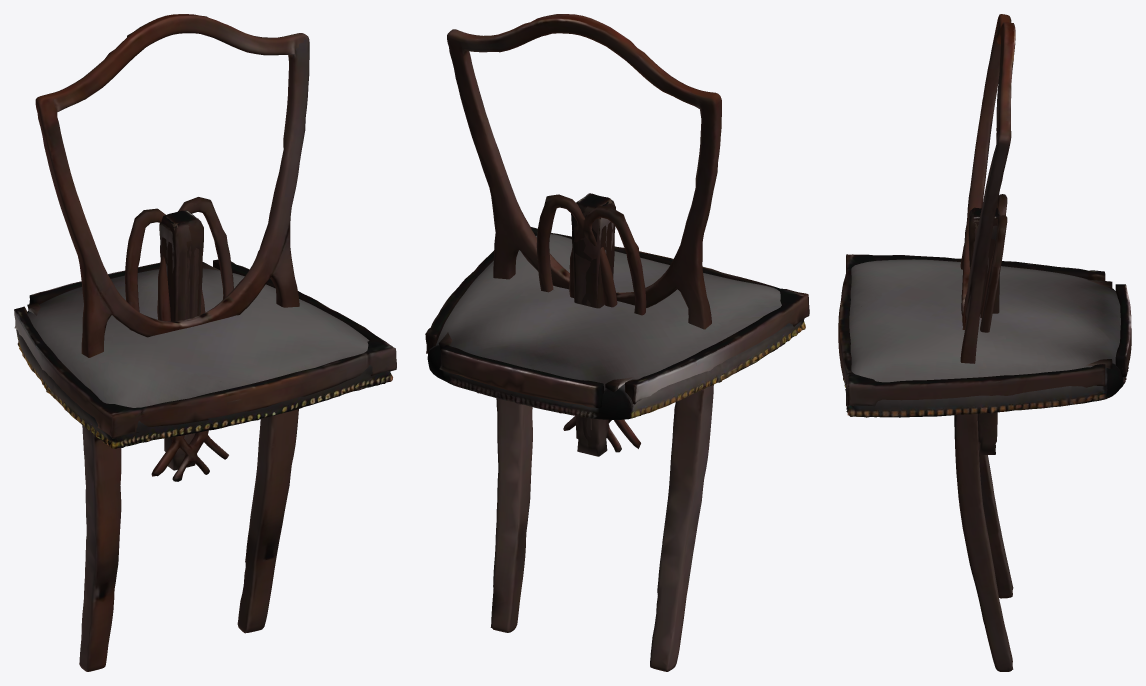
The picture shows the model from 3 angles, left to right: view 1: azimuth 30°, elevation 25°; view 2: azimuth 150°, elevation 25°; view 3: azimuth 270°, elevation 25°; orthographic projection. The views are drawn at different scales.
Visible parts, largest first — view 1: root.1, root.0, root.2, root.4, root.5, root.6; view 2: root.1, root.0, root.2, root.4, root.5, root.6; view 3: root.0, root.1, root.2, root.6, root.4.
Part boxes in pixels (box(x1,y1,x2,y2)): root.1: box(35, 14, 309, 671); root.0: box(16, 268, 392, 448); root.2: box(14, 259, 396, 438); root.4: box(125, 197, 233, 481); root.5: box(159, 210, 199, 470); root.6: box(159, 210, 203, 467); root.1: box(447, 14, 721, 671); root.0: box(427, 234, 805, 419); root.2: box(425, 226, 809, 408); root.4: box(536, 194, 646, 452); root.5: box(571, 193, 615, 456); root.6: box(571, 193, 613, 453); root.0: box(843, 259, 1129, 417); root.1: box(954, 14, 1015, 671); root.2: box(838, 254, 1131, 406); root.6: box(968, 207, 1000, 454); root.4: box(980, 194, 1007, 332).
Size of the model in its own units: 23693 by 50335 by 22233.
1 material, 1 textured.
